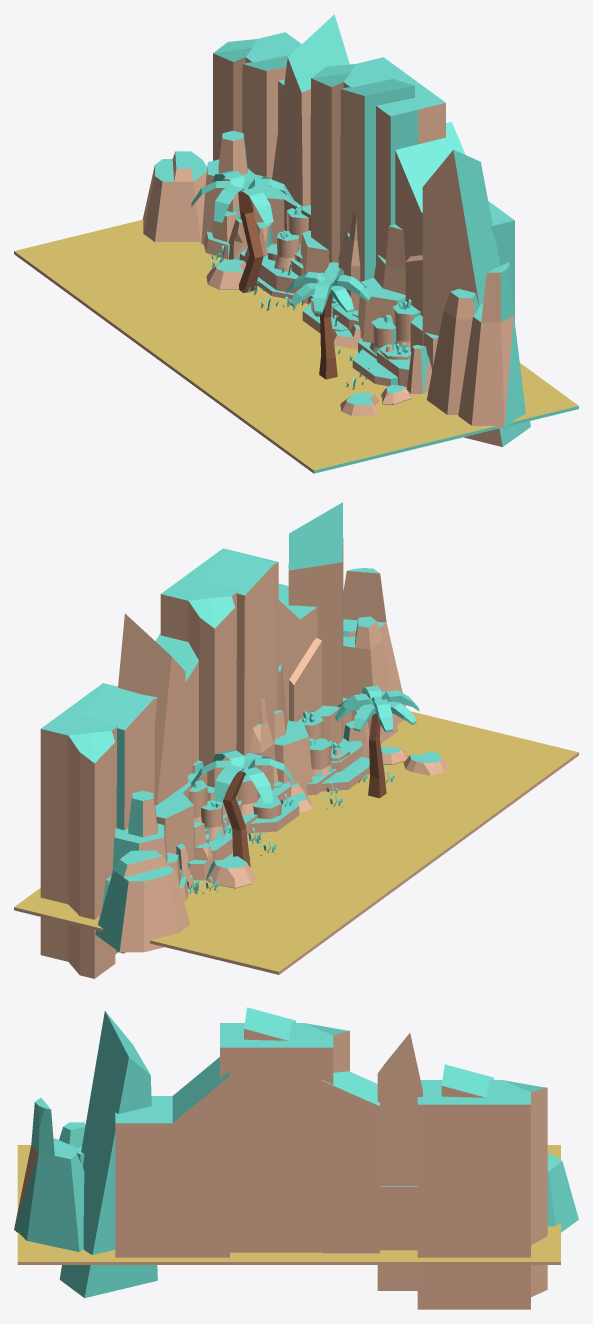
Rendered from customizearea1.glb.
The picture shows the model from 3 angles, top to bottom: view 1: azimuth 30°, elevation 25°; view 2: azimuth 150°, elevation 25°; view 3: azimuth 270°, elevation 25°; orthographic projection. The views are drawn at different scales.
Visible parts, largest first — view 1: customize area1; view 2: customize area1; view 3: customize area1.
Part boxes in pixels (x1,y1,x2,y2): customize area1: (14,14,578,473); customize area1: (14,502,578,978); customize area1: (14,1007,578,1309).
Bounding box in the file's own units: 83.85 × 90.38 × 171.
